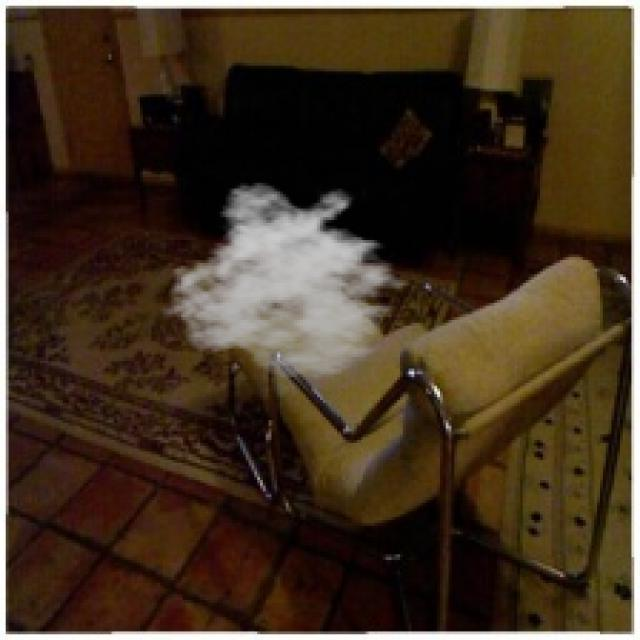Smoke: (160, 180, 426, 380)
